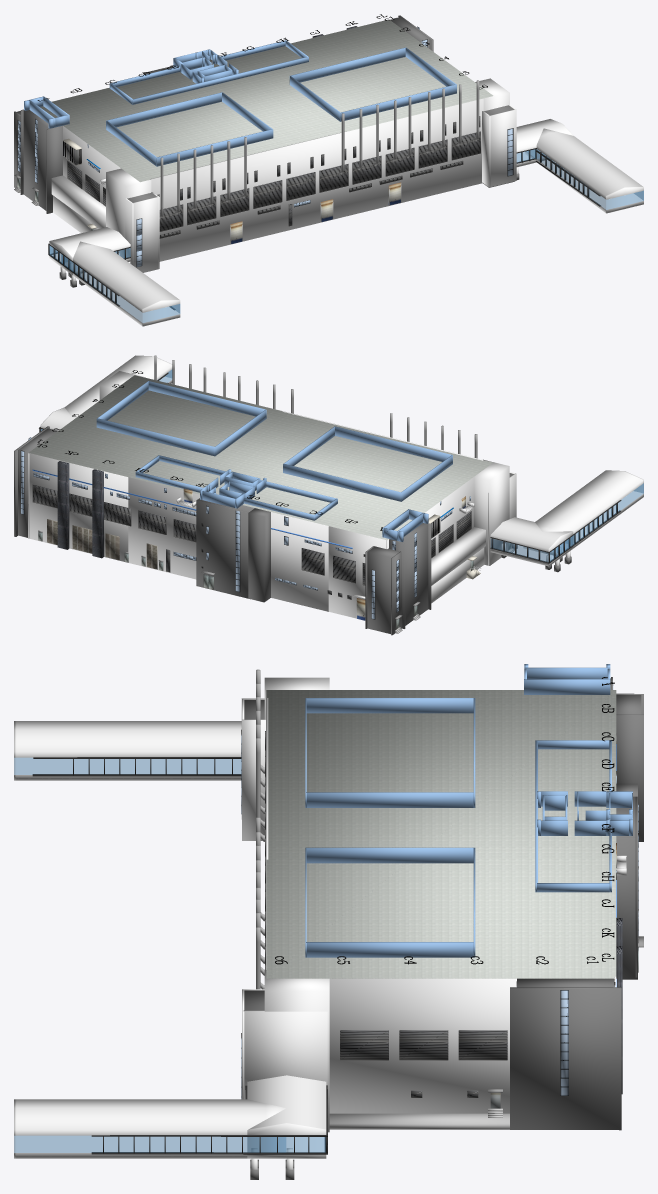
The model's file is cup_7f_mini.gltf.
The picture shows the model from 3 angles, top to bottom: view 1: azimuth 30°, elevation 25°; view 2: azimuth 150°, elevation 25°; view 3: azimuth 270°, elevation 25°; orthographic projection. The views are drawn at different scales.
Parts seen in each view (by area): view 1: cup_dimian_r2f, cup_waiguan_r2_4, cup_waiguan_r2_344, cup_waiguan_r2_289, cup_waiguan_r2_91, cup_waiguan_r2_75, cup_waiguan_r2_362, cup_waiguan_r2_69, cup_waiguan_r2_72, cup_waiguan_r2_14, cup_waiguan_r2_1, cup_waiguan_r2_307 (+24 smaller); view 2: cup_dimian_r2f, cup_waiguan_r2_96, cup_waiguan_r2_344, cup_waiguan_r2_95, cup_waiguan_r2_85, cup_waiguan_r2_362, cup_waiguan_r2_92, cup_waiguan_r2_75, cup_waiguan_r2_245, cup_waiguan_r2_91, cup_waiguan_r2_94, cup_waiguan_r2_289 (+33 smaller); view 3: cup_dimian_r2f, cup_waiguan_r2_37, cup_waiguan_r2_36, cup_waiguan_r2_289, cup_waiguan_r2_344, cup_waiguan_r2_42, cup_waiguan_r2_307, cup_waiguan_r2_61, cup_qiang_r2f_37, cup_qiang_r2f_34, cup_qiang_r2f_33, cup_qiang_r2f_38 (+14 smaller).
Boxes of the visible parts, left/top/right/bottom form: cup_dimian_r2f: left=40, top=20, right=493, bottom=182; cup_waiguan_r2_4: left=150, top=98, right=483, bottom=261; cup_waiguan_r2_344: left=61, top=241, right=180, bottom=326; cup_waiguan_r2_289: left=525, top=128, right=643, bottom=213; cup_waiguan_r2_91: left=23, top=110, right=48, bottom=210; cup_waiguan_r2_75: left=106, top=168, right=151, bottom=258; cup_waiguan_r2_362: left=49, top=227, right=130, bottom=275; cup_waiguan_r2_69: left=489, top=109, right=516, bottom=186; cup_waiguan_r2_72: left=133, top=196, right=158, bottom=272; cup_waiguan_r2_14: left=51, top=175, right=105, bottom=228; cup_waiguan_r2_1: left=63, top=126, right=120, bottom=203; cup_waiguan_r2_307: left=516, top=119, right=573, bottom=167; cup_dimian_r2f: left=29, top=375, right=492, bottom=540; cup_waiguan_r2_96: left=128, top=477, right=328, bottom=611; cup_waiguan_r2_344: left=523, top=470, right=643, bottom=555; cup_waiguan_r2_95: left=28, top=452, right=128, bottom=562; cup_waiguan_r2_85: left=196, top=500, right=248, bottom=597; cup_waiguan_r2_362: left=490, top=517, right=573, bottom=566; cup_waiguan_r2_92: left=328, top=526, right=385, bottom=618; cup_waiguan_r2_75: left=474, top=459, right=509, bottom=565; cup_waiguan_r2_245: left=248, top=508, right=270, bottom=602; cup_waiguan_r2_91: left=389, top=523, right=428, bottom=625; cup_waiguan_r2_94: left=367, top=546, right=399, bottom=633; cup_waiguan_r2_289: left=64, top=355, right=172, bottom=416; cup_dimian_r2f: left=266, top=690, right=616, bottom=978; cup_waiguan_r2_37: left=329, top=978, right=616, bottom=1113; cup_waiguan_r2_36: left=510, top=987, right=621, bottom=1130; cup_waiguan_r2_289: left=14, top=1099, right=285, bottom=1158; cup_waiguan_r2_344: left=14, top=721, right=241, bottom=780; cup_waiguan_r2_42: left=243, top=1010, right=327, bottom=1099; cup_waiguan_r2_307: left=247, top=1075, right=326, bottom=1158; cup_waiguan_r2_61: left=329, top=1113, right=509, bottom=1129; cup_qiang_r2f_37: left=306, top=847, right=473, bottom=863; cup_qiang_r2f_34: left=306, top=792, right=473, bottom=807; cup_qiang_r2f_33: left=306, top=698, right=473, bottom=713; cup_qiang_r2f_38: left=306, top=942, right=473, bottom=957.
Size of the model in its own units: 276 by 55.54 by 179.
28 materials, 12 textured.
